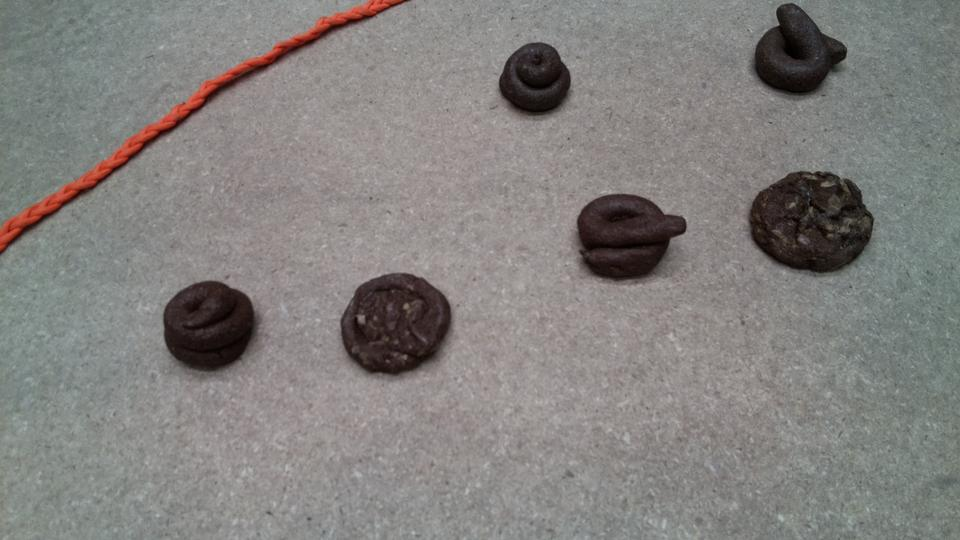poop: (744, 166, 878, 280), (337, 269, 456, 379), (571, 189, 691, 284), (160, 277, 261, 375), (749, 3, 847, 99), (497, 39, 574, 118)
rope: (1, 1, 408, 261)
